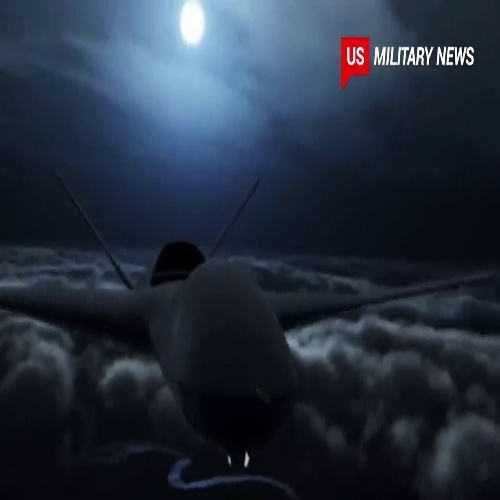uav277: (1, 166, 498, 466)
